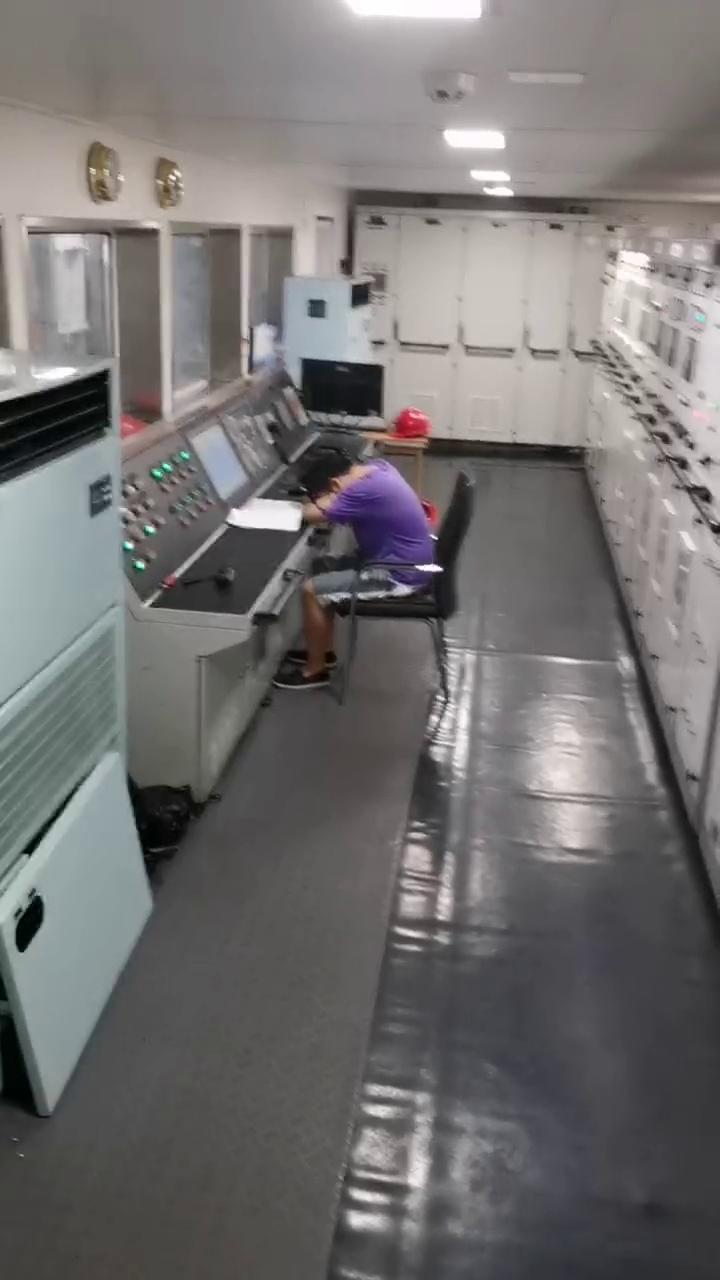sleep: (294, 440, 441, 606)
